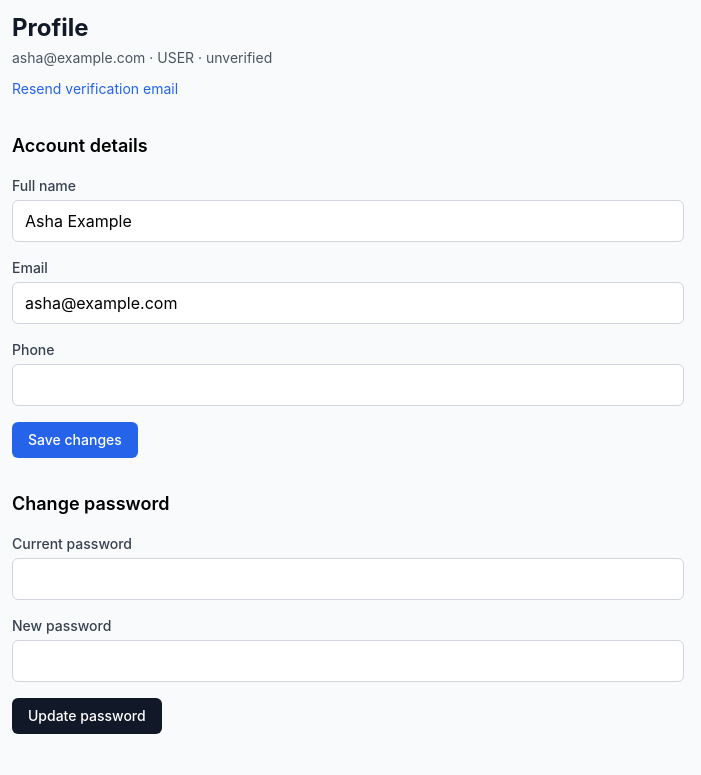
it: profile page › resends the verification email for an unverified account
Click the button "Resend verification email".
click(95, 89)  # box [12,79,178,99]
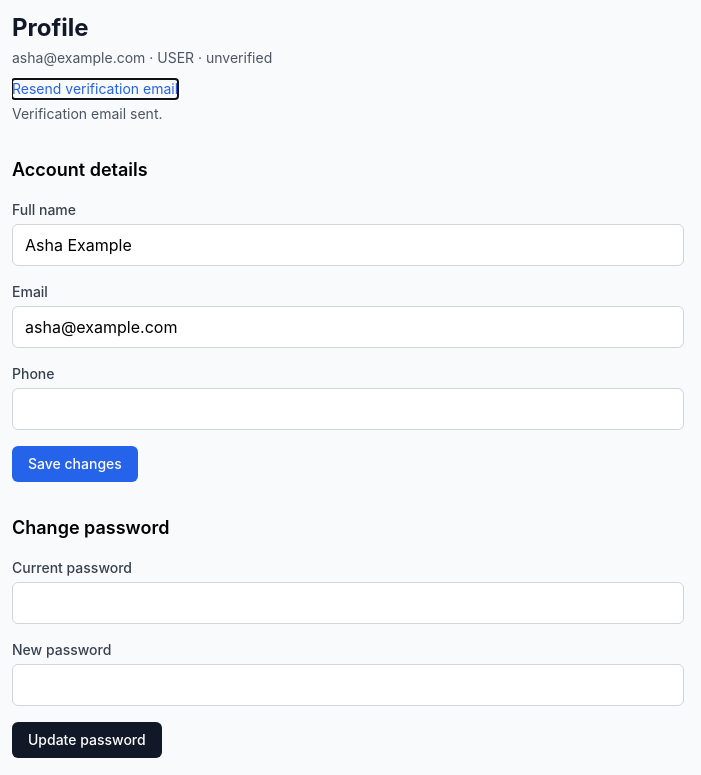
Now the text "Verification email sent." is shown, box [12,105,162,122]
